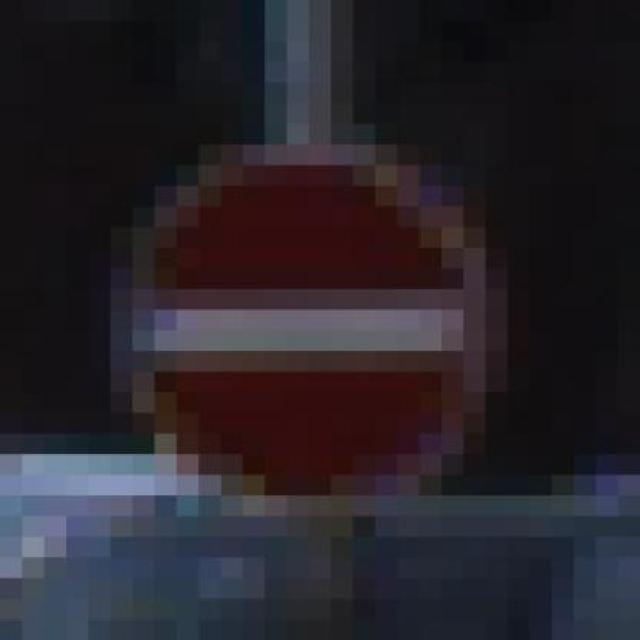No Entry: (66, 103, 508, 537)
